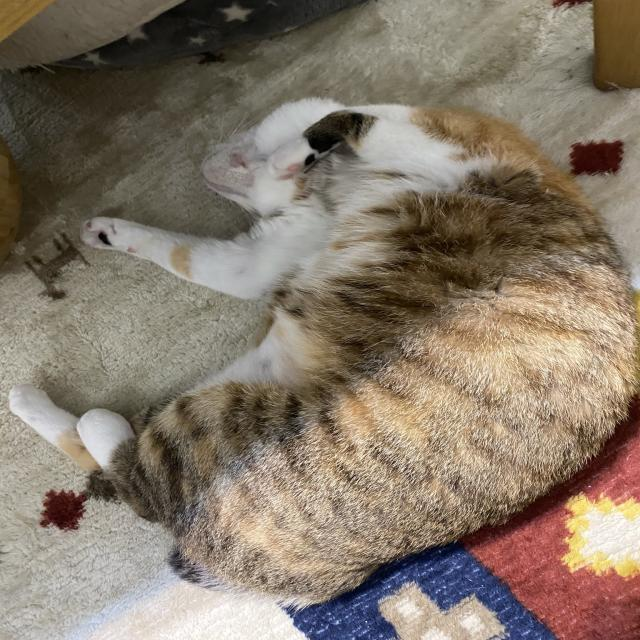cat2: (11, 97, 640, 604)
